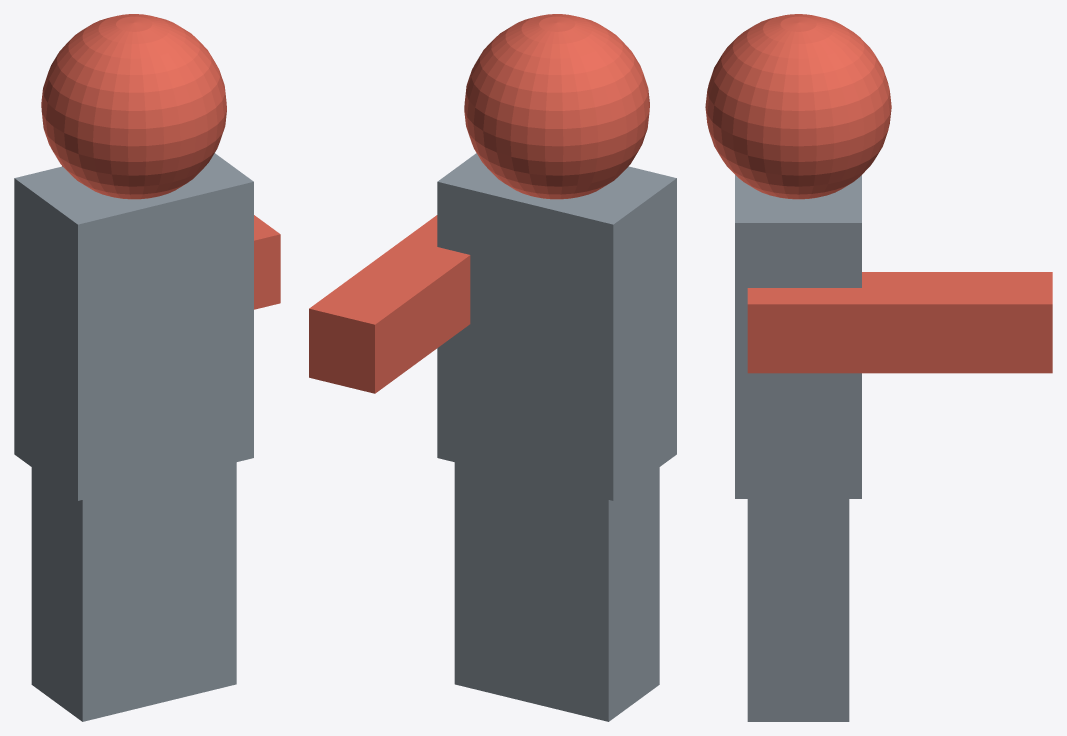
File: SU_VektorOfficer_LOD0.glb
3 renders of one model, left to right at view 1: azimuth 30°, elevation 25°; view 2: azimuth 150°, elevation 25°; view 3: azimuth 270°, elevation 25°, orthographic.
Visible parts, largest first — view 1: Head; view 2: Head; view 3: Head.
Part boxes in pixels (x1,y1,x2,y2): Head: [14, 14, 280, 721]; Head: [309, 14, 676, 721]; Head: [705, 14, 1052, 721].
Size of the model in its own units: 57 by 172 by 82.
